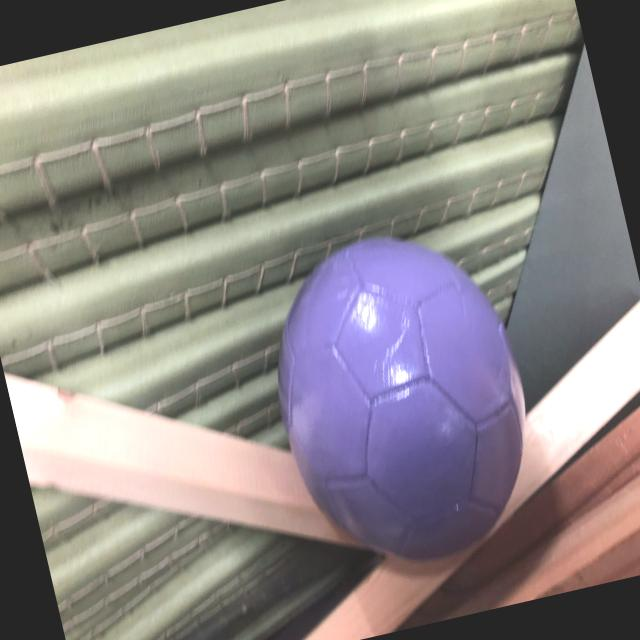purple_ball: (249, 211, 556, 585)
